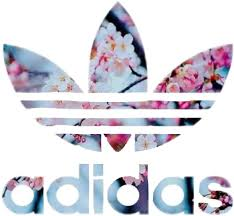adidas: (1, 2, 233, 215)
